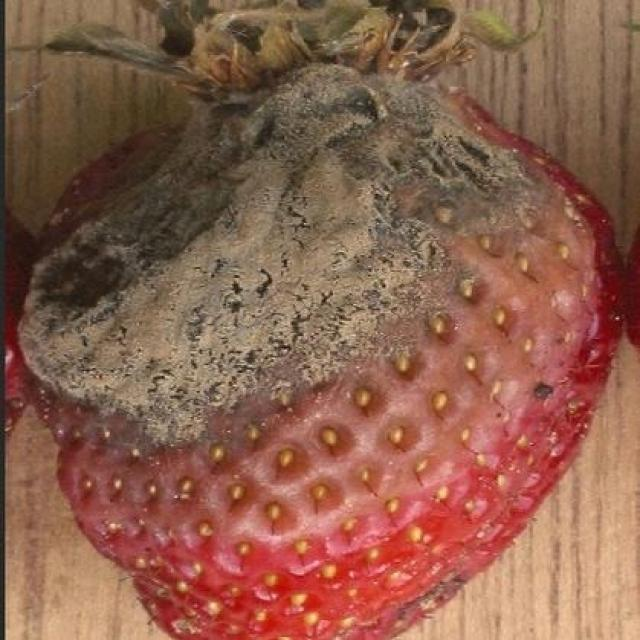Gray Mold: (16, 0, 608, 638)
